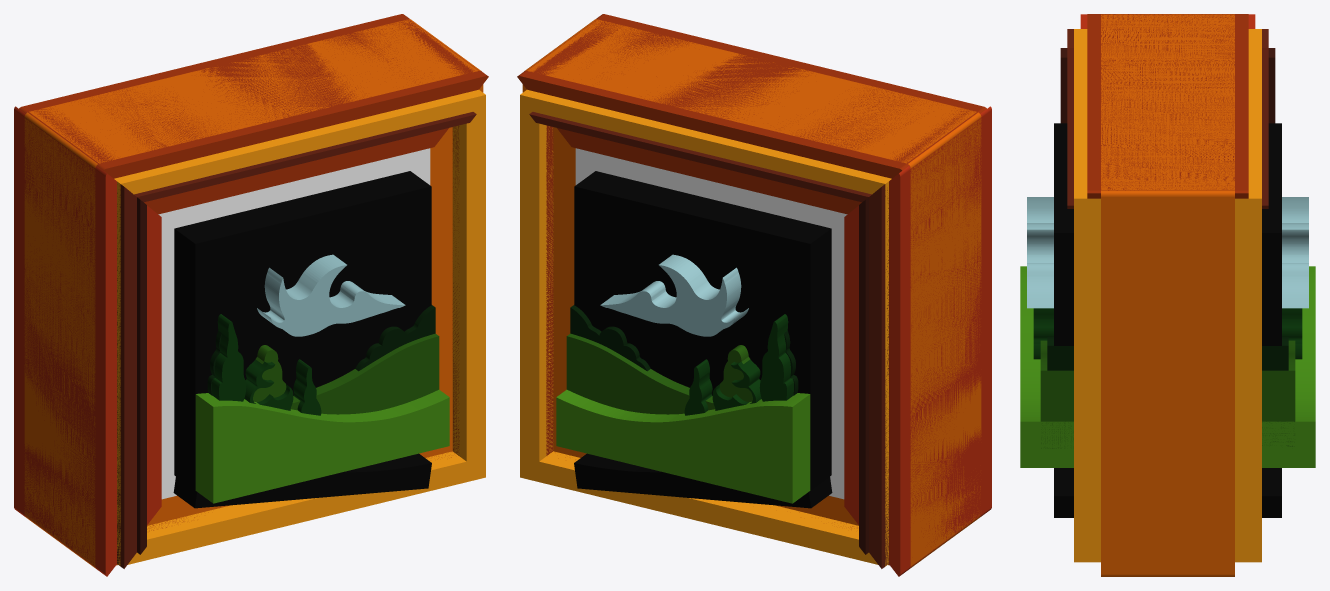
3 views of the same model, side by side, from view 1: azimuth 30°, elevation 25°; view 2: azimuth 150°, elevation 25°; view 3: azimuth 270°, elevation 25° (orthographic). The views are drawn at different scales.
Visible parts, largest first — view 1: U+1F5BC_layer00_obj00, U+1F5BC_layer07_obj02, U+1F5BC_layer03_obj00, U+1F5BC_layer04_obj00, U+1F5BC_layer02_obj00, U+1F5BC_layer12_obj00, U+1F5BC_layer01_obj00, U+1F5BC_layer05_obj01, U+1F5BC_layer09_obj00, U+1F5BC_layer11_obj00, U+1F5BC_layer07_obj01, U+1F5BC_layer05_obj00 (+7 smaller); view 2: U+1F5BC_layer00_obj00, U+1F5BC_layer07_obj02, U+1F5BC_layer03_obj00, U+1F5BC_layer04_obj00, U+1F5BC_layer02_obj00, U+1F5BC_layer12_obj00, U+1F5BC_layer01_obj00, U+1F5BC_layer05_obj01, U+1F5BC_layer09_obj00, U+1F5BC_layer11_obj00, U+1F5BC_layer07_obj01, U+1F5BC_layer05_obj00 (+7 smaller); view 3: U+1F5BC_layer00_obj00, U+1F5BC_layer04_obj00, U+1F5BC_layer02_obj00, U+1F5BC_layer12_obj00, U+1F5BC_layer07_obj02, U+1F5BC_layer11_obj00, U+1F5BC_layer09_obj00, U+1F5BC_layer05_obj00, U+1F5BC_layer07_obj01, U+1F5BC_layer10_obj01, U+1F5BC_layer08_obj00, U+1F5BC_layer06_obj00.
Part boxes in pixels (<box>): U+1F5BC_layer00_obj00: <box>24,19,483,568</box>; U+1F5BC_layer07_obj02: <box>174,171,431,490</box>; U+1F5BC_layer03_obj00: <box>14,106,161,576</box>; U+1F5BC_layer04_obj00: <box>114,89,485,566</box>; U+1F5BC_layer02_obj00: <box>19,14,488,214</box>; U+1F5BC_layer12_obj00: <box>195,389,449,503</box>; U+1F5BC_layer01_obj00: <box>158,148,430,499</box>; U+1F5BC_layer05_obj01: <box>117,184,136,568</box>; U+1F5BC_layer09_obj00: <box>290,333,439,414</box>; U+1F5BC_layer11_obj00: <box>257,254,405,336</box>; U+1F5BC_layer07_obj01: <box>173,453,431,508</box>; U+1F5BC_layer05_obj00: <box>134,112,476,202</box>; U+1F5BC_layer00_obj00: <box>522,19,981,568</box>; U+1F5BC_layer07_obj02: <box>574,171,831,490</box>; U+1F5BC_layer03_obj00: <box>844,106,991,576</box>; U+1F5BC_layer04_obj00: <box>520,89,891,566</box>; U+1F5BC_layer02_obj00: <box>517,14,986,214</box>; U+1F5BC_layer12_obj00: <box>556,389,810,503</box>; U+1F5BC_layer01_obj00: <box>575,148,847,499</box>; U+1F5BC_layer05_obj01: <box>869,184,888,568</box>; U+1F5BC_layer09_obj00: <box>566,333,715,414</box>; U+1F5BC_layer11_obj00: <box>600,254,748,336</box>; U+1F5BC_layer07_obj01: <box>574,453,832,508</box>; U+1F5BC_layer05_obj00: <box>529,112,871,202</box>; U+1F5BC_layer00_obj00: <box>1101,14,1234,576</box>; U+1F5BC_layer04_obj00: <box>1074,29,1261,562</box>; U+1F5BC_layer02_obj00: <box>1087,14,1248,198</box>; U+1F5BC_layer12_obj00: <box>1020,266,1315,467</box>; U+1F5BC_layer07_obj02: <box>1054,123,1281,345</box>; U+1F5BC_layer11_obj00: <box>1027,197,1308,308</box>; U+1F5BC_layer09_obj00: <box>1040,340,1295,448</box>; U+1F5BC_layer05_obj00: <box>1067,48,1268,208</box>; U+1F5BC_layer07_obj01: <box>1054,468,1281,517</box>; U+1F5BC_layer10_obj01: <box>1033,308,1302,359</box>; U+1F5BC_layer08_obj00: <box>1047,336,1288,370</box>; U+1F5BC_layer06_obj00: <box>1060,48,1275,123</box>.
Bounding box in the file's own units: 0.3175 × 0.3174 × 0.22.
